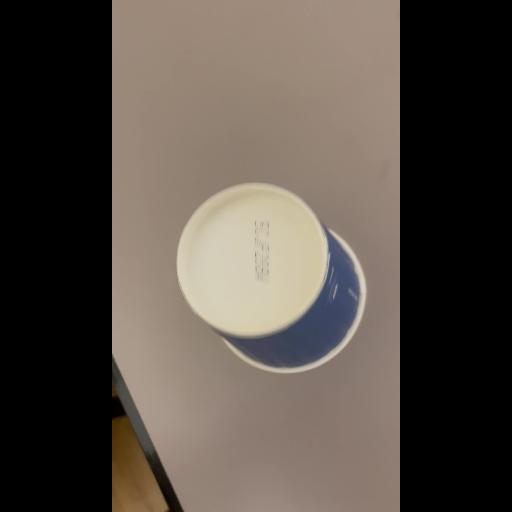lp_paper_cup: (170, 174, 370, 378)
